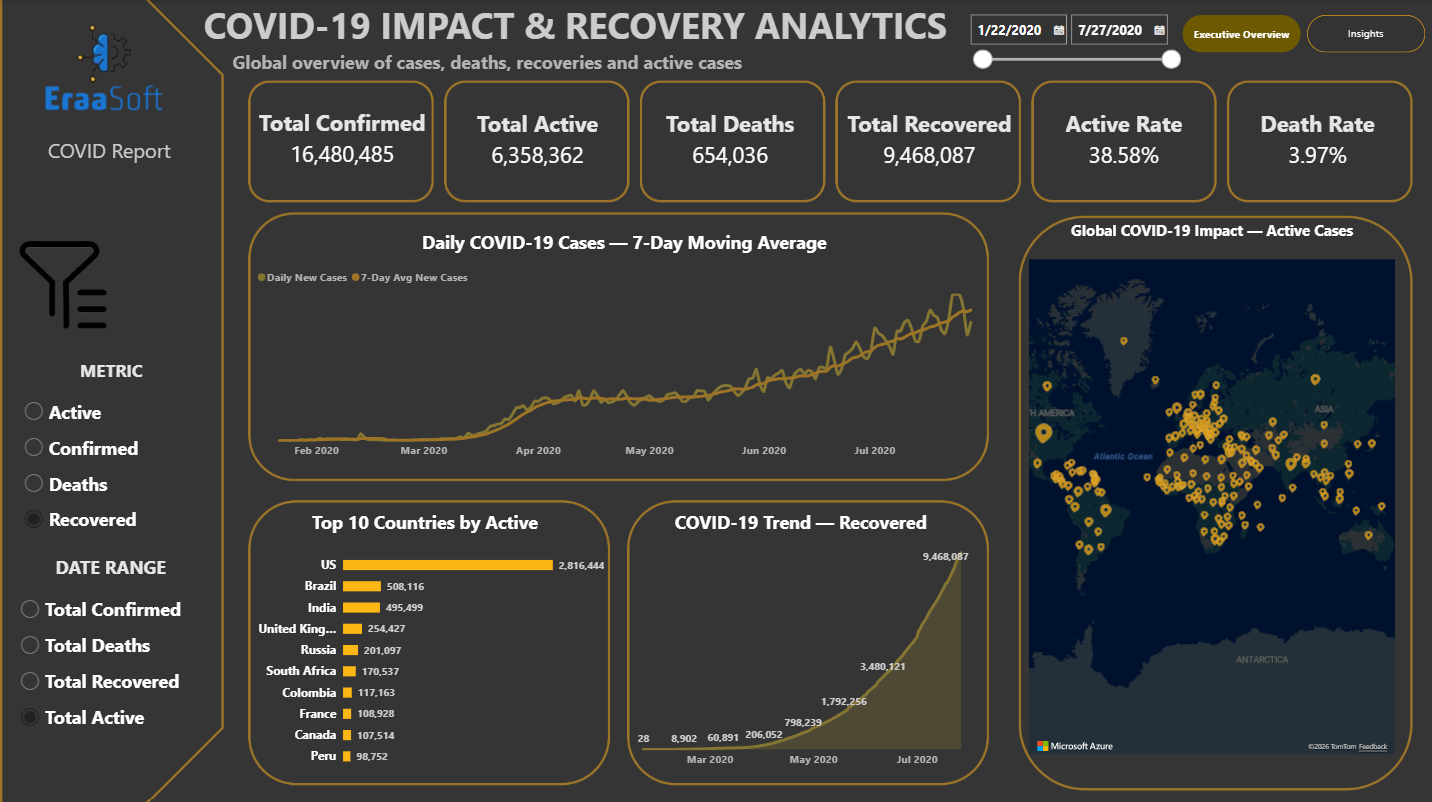

What the dashboard file says about the page in this screenshot:
{"tool":"powerbi","page":{"name":"Executive Overview","canvas":[1920,1080],"ordinal":0},"visuals":[{"type":"cardVisual","fields":{"Data":["_Measures.Total Confirmed"]},"box":[313.1,101.3,290.2,164.7],"z":0},{"type":"cardVisual","fields":{"Data":["_Measures.Total Active"]},"box":[601,121.4,234.6,127.6],"z":1000},{"type":"cardVisual","fields":{"Data":["_Measures.Total Deaths"]},"box":[858.3,121.4,234.6,127.6],"z":2000},{"type":"cardVisual","fields":{"Data":["_Measures.Total Recovered"]},"box":[1111.5,121.4,259.3,127.6],"z":3000},{"type":"cardVisual","fields":{"Data":["_Measures.Latest Death Rate"]},"box":[1642.5,121.4,234.6,127.6],"z":4000},{"type":"clusteredBarChart","fields":{"Category":["FactCOVID.Country"],"Y":["_Measures.Total Active"]},"box":[312.2,666.3,511,378.5],"z":5000},{"type":"azureMap","fields":{"Category":["FactCOVID.Country"],"Size":["_Measures.Total Active"]},"box":[1358.7,279.1,519.8,744.8],"z":6000},{"type":"lineChart","fields":{"Category":["DateTable.Date"],"Y":["_Measures.Recovered"]},"box":[811,666.3,516.3,378.5],"z":7000},{"type":"slicer","title":"METRIC","fields":{"Values":["Parameter.Parameter"]},"box":[25,479.2,247.1,248.8],"z":8000},{"type":"lineChart","fields":{"Category":["DateTable.Date"],"Y":["_Measures.Daily New Cases","_Measures.7-Day Avg New Cases"]},"box":[327.3,292.2,1013.5,340.6],"z":9000},{"type":"cardVisual","fields":{"Data":["_Measures.Active Rate"]},"box":[1384.9,122.1,234.6,127.6],"z":10000},{"type":"slicer","title":"DATE RANGE","fields":{"Values":["matric selector.matric selector"]},"box":[20,741.4,255.5,257.1],"z":11000},{"type":"slicer","fields":{"Values":["FactCOVID.Date"]},"box":[1288.5,14.5,291.4,86.9],"z":12000},{"type":"textbox","box":[271.4,0,1031.5,88.7],"z":12001},{"type":"textbox","box":[311.3,67,705.8,43.4],"z":12002},{"type":"image","box":[20,317.3,128.5,126.7],"z":12003},{"type":"image","box":[7.2,0,264.2,182.8],"z":12004},{"type":"textbox","box":[56.1,182.8,186.4,50.7],"z":12005},{"type":"pageNavigator","box":[1579.8,19.9,325.7,50.7],"z":12006}]}

Visuals, with their boxes in screenshot pixels (x1, y1, x2, y2), scaled from the page's 1920x1080 canvas onto the 1432x802 screenshot:
cardVisual - _Measures.Total Confirmed: x1=234, y1=75, x2=450, y2=198
cardVisual - _Measures.Total Active: x1=448, y1=90, x2=623, y2=185
cardVisual - _Measures.Total Deaths: x1=640, y1=90, x2=815, y2=185
cardVisual - _Measures.Total Recovered: x1=829, y1=90, x2=1022, y2=185
cardVisual - _Measures.Latest Death Rate: x1=1225, y1=90, x2=1400, y2=185
clusteredBarChart - FactCOVID.Country x _Measures.Total Active: x1=233, y1=495, x2=614, y2=776
azureMap - FactCOVID.Country x _Measures.Total Active: x1=1013, y1=207, x2=1401, y2=760
lineChart - DateTable.Date x _Measures.Recovered: x1=605, y1=495, x2=990, y2=776
"METRIC" slicer: x1=19, y1=356, x2=203, y2=541
lineChart - DateTable.Date x _Measures.Daily New Cases: x1=244, y1=217, x2=1000, y2=470
cardVisual - _Measures.Active Rate: x1=1033, y1=91, x2=1208, y2=185
"DATE RANGE" slicer: x1=15, y1=551, x2=205, y2=741
slicer - FactCOVID.Date: x1=961, y1=11, x2=1178, y2=75
textbox: x1=202, y1=0, x2=972, y2=66
textbox: x1=232, y1=50, x2=759, y2=82
image: x1=15, y1=236, x2=111, y2=330
image: x1=5, y1=0, x2=202, y2=136
textbox: x1=42, y1=136, x2=181, y2=173
pageNavigator: x1=1178, y1=15, x2=1421, y2=52
